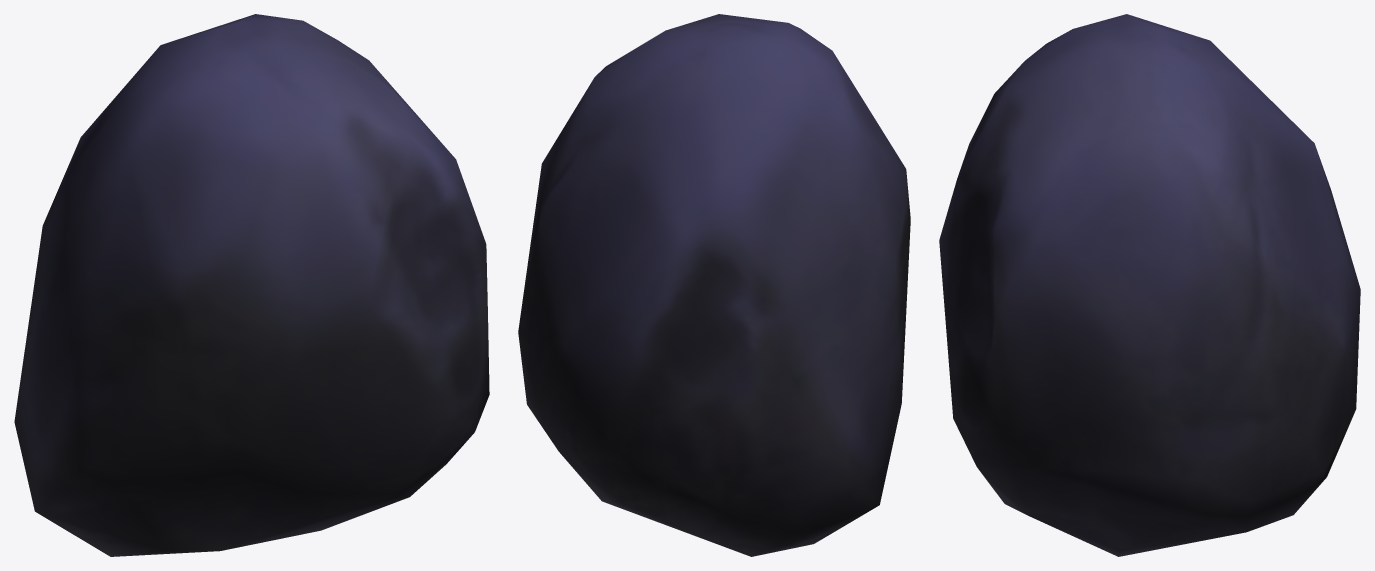
The model's file is SM_Gem_Obsidian_001.fbx.
3 renders of one model, left to right at view 1: azimuth 30°, elevation 25°; view 2: azimuth 150°, elevation 25°; view 3: azimuth 270°, elevation 25°, orthographic. The views are drawn at different scales.
Visible parts, largest first — view 1: SM_Gem_Obsidian_001; view 2: SM_Gem_Obsidian_001; view 3: SM_Gem_Obsidian_001.
Boxes of the visible parts, x1,y1,x2,y2 form: SM_Gem_Obsidian_001: (14,14,489,556); SM_Gem_Obsidian_001: (518,14,910,556); SM_Gem_Obsidian_001: (939,14,1360,556).
Size of the model in its own units: 16.17 by 20.99 by 15.89.
